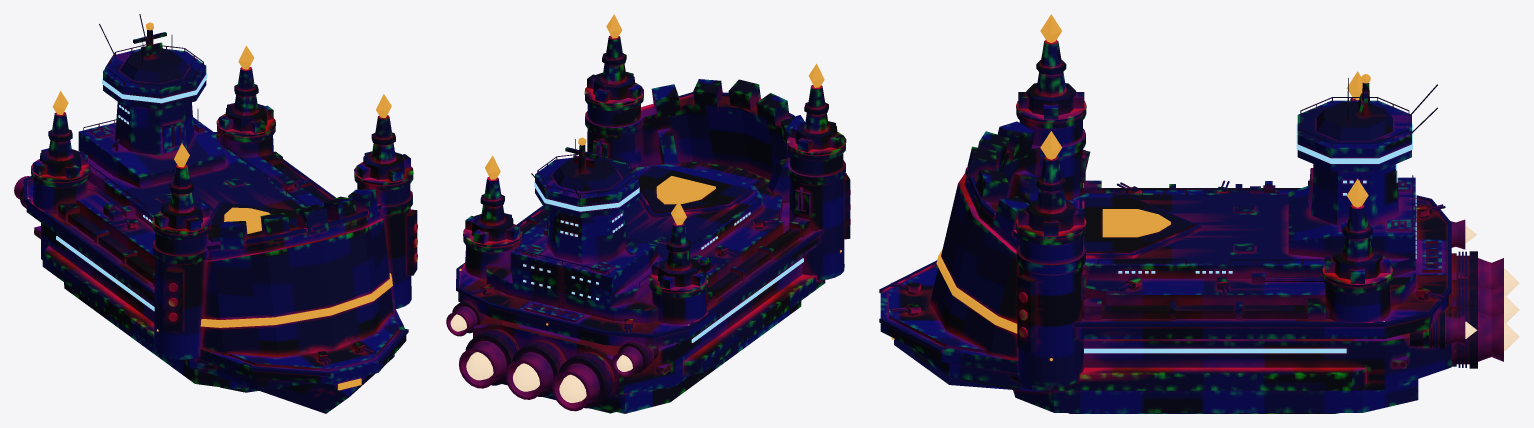
The model's file is bastion.glb.
The picture shows the model from 3 angles, left to right: view 1: azimuth 30°, elevation 25°; view 2: azimuth 150°, elevation 25°; view 3: azimuth 270°, elevation 25°; orthographic projection. The views are drawn at different scales.
Visible parts, largest first — view 1: bastion; view 2: bastion; view 3: bastion.
Boxes of the visible parts, x1=… form: bastion: x1=14, y1=14, x2=417, y2=413; bastion: x1=446, y1=14, x2=850, y2=413; bastion: x1=879, y1=14, x2=1519, y2=413.
Size of the model in its own units: 6.28 by 6.42 by 11.6.
Materials: 14 (10 with a texture image).
